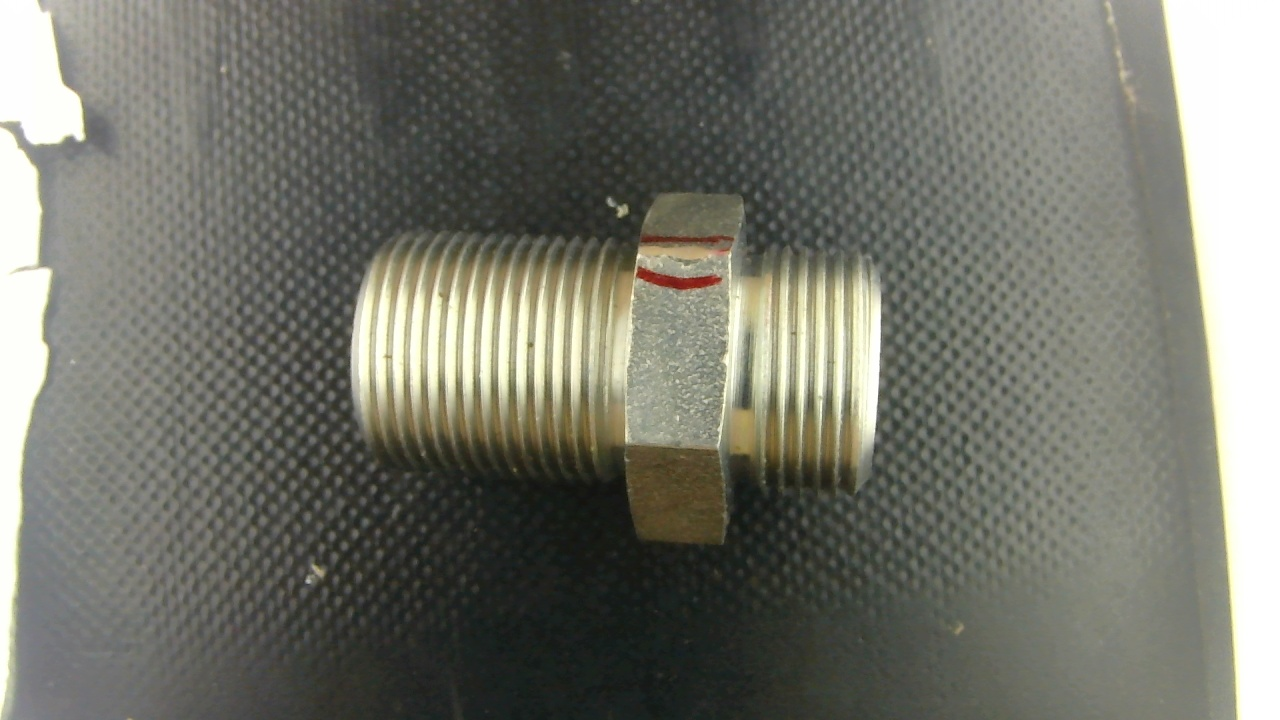Hex_damage: (633, 240, 724, 271)
